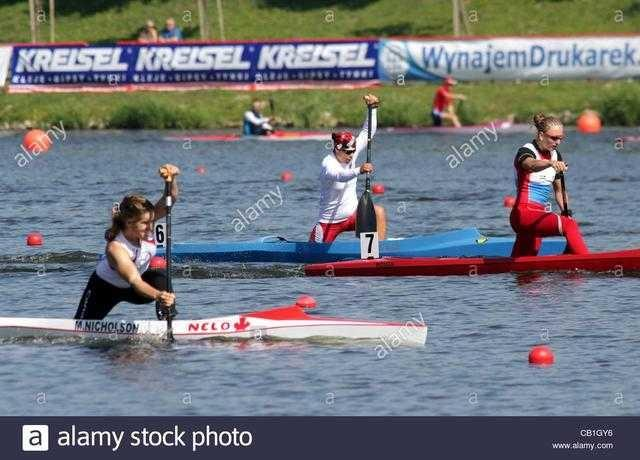kayak: (154, 221, 639, 278)
